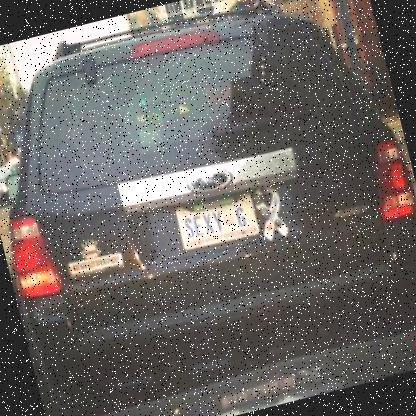License-Plate: (171, 185, 265, 256)
